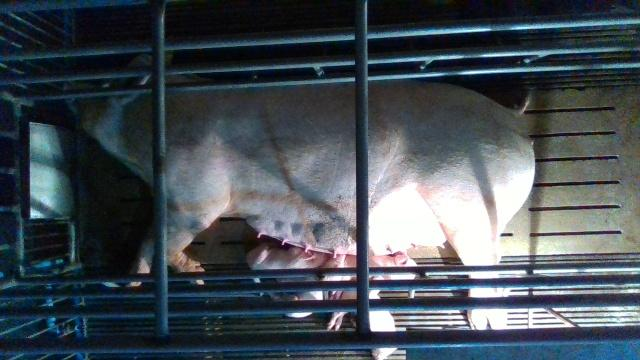piglet: (327, 288, 397, 360), (323, 253, 419, 299), (265, 275, 326, 318), (245, 240, 328, 269)
sow-sleep-lactate: (62, 51, 535, 331)
